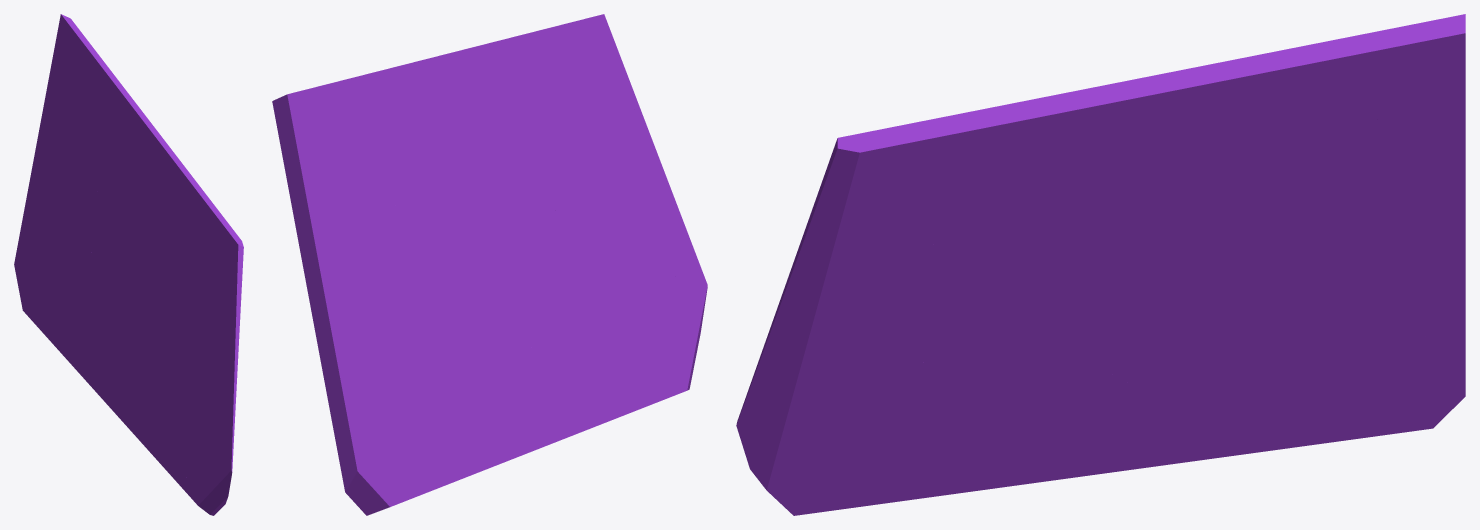
The model's file is Window_1_18_chunks.fbx.
The picture shows the model from 3 angles, left to right: view 1: azimuth 30°, elevation 25°; view 2: azimuth 150°, elevation 25°; view 3: azimuth 270°, elevation 25°; orthographic projection. The views are drawn at different scales.
Visible parts, largest first — view 1: Window_1_18_0, Window_1_18_5, Window_1_18_6, Window_1_18_4, Window_1_18_2, Window_1_18_14, Window_1_18_12, Window_1_18_3, Window_1_18_13, Window_1_18_9, Window_1_18_10, Window_1_18_15 (+2 smaller); view 2: Window_1_18_6, Window_1_18_5, Window_1_18_0, Window_1_18_4, Window_1_18_12, Window_1_18_2, Window_1_18_14, Window_1_18_15, Window_1_18_13, Window_1_18_3, Window_1_18_9, Window_1_18_10 (+3 smaller); view 3: Window_1_18_0, Window_1_18_6, Window_1_18_4, Window_1_18_5, Window_1_18_14, Window_1_18_2, Window_1_18_15, Window_1_18_10, Window_1_18_13, Window_1_18_3, Window_1_18_11, Window_1_18_9 (+2 smaller).
Boxes of the visible parts, x1,y1,x2,y2 form: Window_1_18_0: (133, 100, 242, 323); Window_1_18_5: (86, 92, 153, 348); Window_1_18_6: (14, 239, 132, 369); Window_1_18_4: (149, 230, 243, 380); Window_1_18_2: (156, 368, 230, 515); Window_1_18_14: (60, 14, 131, 168); Window_1_18_12: (15, 119, 82, 255); Window_1_18_3: (209, 311, 240, 483); Window_1_18_13: (36, 158, 102, 251); Window_1_18_9: (76, 365, 153, 455); Window_1_18_10: (144, 374, 192, 499); Window_1_18_15: (41, 15, 76, 125); Window_1_18_6: (338, 303, 535, 515); Window_1_18_5: (394, 61, 550, 336); Window_1_18_0: (416, 19, 584, 268); Window_1_18_4: (546, 14, 635, 314); Window_1_18_12: (314, 197, 383, 458); Window_1_18_2: (571, 249, 704, 393); Window_1_18_14: (285, 67, 411, 216); Window_1_18_15: (272, 95, 357, 327); Window_1_18_13: (376, 191, 427, 412); Window_1_18_3: (634, 94, 707, 307); Window_1_18_9: (481, 368, 611, 471); Window_1_18_10: (570, 318, 678, 419); Window_1_18_0: (855, 64, 1243, 347); Window_1_18_6: (1089, 283, 1465, 451); Window_1_18_4: (808, 130, 1024, 372); Window_1_18_5: (1056, 56, 1256, 362); Window_1_18_14: (1248, 14, 1465, 180); Window_1_18_2: (743, 351, 989, 515); Window_1_18_15: (1330, 16, 1465, 243); Window_1_18_10: (795, 361, 1034, 515); Window_1_18_13: (1259, 175, 1431, 348); Window_1_18_3: (736, 222, 856, 445); Window_1_18_11: (1022, 346, 1262, 453); Window_1_18_9: (970, 419, 1250, 491).
Size of the model in its own units: 178 by 770 by 934.
